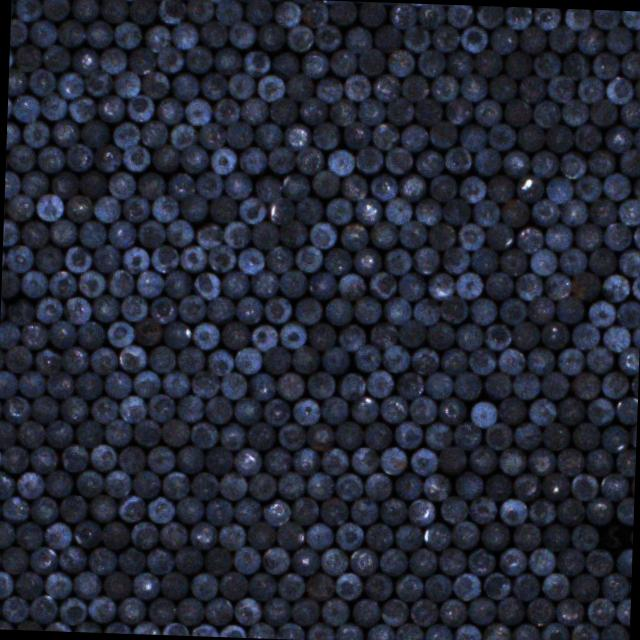tool: (105, 218, 134, 248), (33, 244, 62, 274), (76, 318, 105, 348), (29, 593, 58, 622), (29, 496, 58, 525), (59, 343, 88, 372), (526, 596, 554, 626), (4, 345, 34, 373), (364, 470, 392, 500), (394, 572, 422, 602), (178, 144, 206, 174), (20, 218, 48, 248), (100, 518, 128, 548), (29, 394, 57, 424), (450, 520, 478, 549), (510, 319, 538, 348), (146, 392, 174, 421), (569, 370, 598, 398), (572, 271, 600, 300), (544, 124, 572, 153), (604, 75, 632, 104), (262, 343, 290, 372), (87, 546, 116, 574), (72, 370, 101, 398), (480, 520, 508, 549), (270, 96, 298, 125), (414, 96, 442, 125), (119, 246, 148, 274), (204, 546, 232, 575), (72, 570, 100, 599), (524, 346, 552, 375), (5, 245, 33, 274), (88, 396, 117, 424), (100, 570, 129, 598), (75, 268, 104, 296), (75, 469, 104, 497), (442, 196, 472, 223), (136, 218, 163, 248), (584, 546, 612, 574), (176, 444, 204, 472), (452, 370, 480, 398), (416, 48, 444, 76), (290, 344, 318, 372), (351, 294, 379, 322), (408, 394, 436, 422), (467, 296, 495, 324), (570, 472, 598, 500), (278, 270, 306, 298), (174, 546, 202, 574), (406, 546, 434, 574), (474, 48, 502, 76), (504, 98, 532, 126), (526, 295, 554, 323), (34, 192, 62, 220), (397, 218, 425, 246), (207, 244, 235, 272), (2, 396, 30, 424), (158, 520, 186, 548), (452, 572, 480, 600), (468, 446, 496, 474), (308, 270, 336, 298), (218, 471, 246, 499), (296, 145, 324, 173), (260, 546, 288, 574), (406, 497, 434, 525), (538, 320, 566, 348), (487, 74, 515, 102), (189, 471, 217, 499), (502, 199, 530, 227), (586, 598, 614, 626), (377, 496, 405, 524), (135, 270, 163, 298), (188, 520, 216, 548), (428, 118, 456, 146), (14, 522, 42, 550), (554, 448, 582, 476), (248, 572, 276, 600), (602, 172, 630, 200), (377, 546, 405, 574), (220, 320, 248, 348), (29, 544, 57, 572), (274, 520, 302, 548), (188, 570, 216, 598), (227, 21, 255, 49), (160, 470, 188, 498), (146, 444, 174, 472), (441, 245, 469, 273), (152, 193, 180, 221), (470, 495, 498, 523), (364, 571, 392, 599), (394, 522, 422, 550), (292, 244, 320, 272), (304, 422, 332, 450), (1, 444, 29, 472), (13, 94, 41, 122), (574, 174, 602, 202), (125, 94, 153, 122), (348, 548, 376, 576), (236, 247, 264, 275), (118, 344, 146, 372), (334, 522, 362, 550), (278, 218, 306, 246), (328, 148, 356, 176), (466, 597, 494, 625), (517, 122, 545, 150), (256, 72, 284, 100), (174, 596, 202, 624), (496, 596, 524, 624), (132, 418, 160, 446), (43, 418, 71, 446), (160, 370, 188, 398), (590, 99, 618, 127), (364, 522, 392, 550), (198, 20, 226, 48), (488, 121, 516, 149), (392, 420, 420, 448), (422, 572, 450, 600), (554, 396, 582, 424), (133, 316, 161, 344), (48, 218, 76, 246), (424, 421, 452, 449), (304, 570, 332, 598), (160, 417, 188, 445), (556, 598, 584, 626), (436, 545, 464, 573), (514, 174, 542, 202), (558, 247, 586, 275), (541, 421, 569, 449), (130, 370, 158, 398), (148, 344, 176, 372), (58, 394, 86, 422), (320, 346, 348, 374), (149, 296, 177, 324), (348, 496, 376, 524), (409, 598, 437, 626), (212, 46, 240, 74), (58, 493, 86, 521), (588, 246, 616, 274), (592, 50, 620, 78), (308, 220, 336, 248), (16, 420, 44, 448), (174, 494, 202, 522), (558, 152, 586, 180), (122, 194, 150, 222), (274, 372, 302, 400), (570, 572, 598, 600), (190, 421, 218, 449), (276, 570, 304, 598), (28, 18, 56, 46), (382, 295, 410, 323), (584, 496, 612, 524), (395, 272, 423, 300), (318, 496, 346, 524), (412, 296, 440, 324), (282, 123, 310, 151), (103, 468, 131, 496), (262, 498, 290, 526), (542, 572, 570, 600), (18, 370, 46, 398), (372, 24, 400, 52), (290, 596, 318, 624), (446, 50, 474, 78), (92, 194, 120, 222), (440, 494, 468, 522), (62, 296, 90, 324), (20, 168, 48, 196), (421, 522, 449, 550), (74, 418, 102, 446), (378, 395, 406, 423), (586, 396, 614, 424), (572, 222, 600, 250), (5, 144, 33, 172), (343, 26, 371, 54), (601, 572, 629, 600), (46, 369, 74, 397), (64, 142, 92, 170), (482, 570, 510, 598), (262, 446, 290, 474), (190, 368, 218, 396), (291, 396, 319, 424), (102, 417, 130, 445), (408, 447, 436, 475), (116, 545, 144, 573), (117, 444, 145, 472), (530, 196, 558, 224), (28, 444, 56, 472), (59, 444, 87, 472), (88, 493, 116, 521), (249, 270, 277, 298), (105, 268, 133, 296), (232, 446, 260, 474), (149, 244, 177, 272), (252, 172, 280, 200), (414, 149, 442, 177), (104, 320, 132, 348), (526, 396, 554, 424), (472, 98, 500, 126), (348, 396, 376, 424), (48, 270, 76, 298), (600, 423, 628, 451), (62, 244, 90, 272), (170, 71, 198, 99), (606, 123, 634, 151), (59, 595, 87, 623), (206, 497, 234, 525), (116, 594, 144, 622), (192, 270, 220, 298), (350, 598, 378, 626), (4, 296, 32, 324), (92, 294, 120, 322), (148, 596, 176, 624), (204, 446, 232, 474), (48, 318, 76, 346), (118, 394, 146, 422), (277, 320, 305, 348), (79, 168, 107, 196), (89, 345, 117, 373), (252, 219, 279, 248), (574, 123, 601, 152), (211, 95, 238, 124), (385, 95, 412, 124), (94, 142, 121, 171), (369, 322, 398, 349), (76, 218, 105, 245), (338, 323, 365, 352), (440, 295, 467, 323), (247, 520, 274, 548), (264, 245, 292, 272), (489, 25, 516, 53), (226, 70, 253, 98), (205, 596, 232, 624), (306, 371, 334, 398), (240, 95, 267, 123), (84, 20, 111, 48), (504, 51, 532, 78), (498, 448, 525, 476), (262, 396, 289, 424), (21, 321, 48, 349), (88, 443, 115, 471), (366, 368, 393, 396), (112, 20, 139, 48), (334, 570, 361, 598), (334, 421, 362, 448), (540, 371, 568, 398), (220, 372, 247, 400), (546, 24, 574, 51), (514, 272, 541, 300), (438, 598, 465, 626), (243, 48, 270, 76), (344, 120, 371, 148), (291, 448, 318, 476), (570, 322, 598, 349), (555, 498, 582, 526), (305, 470, 332, 498), (259, 22, 286, 50), (285, 22, 312, 50), (170, 21, 198, 48), (584, 449, 611, 477), (255, 121, 282, 149), (543, 221, 570, 249), (503, 150, 530, 178), (384, 198, 412, 225), (357, 46, 384, 74), (349, 446, 376, 474), (247, 472, 274, 500), (432, 24, 459, 52), (29, 67, 56, 95), (248, 372, 276, 399), (367, 271, 394, 299), (235, 295, 262, 323), (208, 194, 235, 222), (410, 346, 437, 374), (182, 97, 209, 125), (459, 72, 486, 100), (384, 146, 412, 173), (291, 546, 318, 574), (64, 194, 91, 222), (454, 271, 481, 299), (600, 370, 627, 398), (224, 169, 251, 197), (444, 144, 471, 172), (97, 93, 124, 121), (291, 495, 318, 523), (197, 122, 224, 150), (57, 18, 84, 46), (132, 572, 159, 600), (312, 168, 339, 196), (342, 73, 370, 100), (130, 471, 158, 498), (320, 447, 347, 475), (248, 422, 275, 450), (183, 45, 210, 73), (51, 120, 78, 148), (587, 148, 614, 176), (204, 394, 231, 422), (401, 123, 428, 151), (218, 571, 245, 599), (496, 347, 523, 375), (14, 44, 41, 72), (555, 296, 582, 324), (402, 72, 429, 100), (356, 96, 383, 124), (321, 596, 348, 624), (403, 24, 430, 52), (321, 394, 348, 422), (140, 120, 167, 148), (299, 96, 326, 124), (199, 72, 226, 100), (445, 97, 472, 125), (544, 175, 572, 202), (320, 546, 347, 574), (430, 172, 457, 200), (467, 347, 494, 375), (426, 371, 454, 398), (572, 421, 600, 448), (603, 274, 630, 302), (337, 272, 364, 300), (354, 197, 381, 225), (386, 49, 413, 77), (353, 344, 380, 372), (604, 26, 631, 54), (195, 170, 222, 198), (41, 44, 68, 72), (233, 346, 260, 374), (529, 148, 556, 176), (512, 473, 539, 501), (485, 221, 513, 248), (205, 296, 232, 324), (370, 218, 397, 246), (604, 223, 631, 251), (220, 270, 247, 298), (238, 146, 265, 174), (588, 197, 616, 224), (456, 470, 483, 498), (286, 72, 313, 100), (177, 294, 204, 322), (165, 219, 192, 247), (498, 396, 525, 424), (160, 570, 187, 598), (334, 472, 361, 500), (326, 198, 354, 225), (15, 572, 42, 600), (238, 197, 266, 224), (363, 422, 390, 450), (428, 221, 456, 248), (453, 322, 481, 349), (156, 46, 184, 73), (467, 547, 494, 575), (92, 245, 120, 272), (218, 522, 245, 550), (542, 472, 570, 499), (399, 172, 426, 200), (329, 47, 356, 75), (438, 395, 465, 423), (178, 243, 205, 271), (280, 170, 307, 198), (313, 23, 340, 51), (142, 24, 169, 52), (233, 596, 260, 624), (398, 320, 425, 348), (40, 90, 67, 118), (354, 145, 381, 173), (438, 446, 465, 474), (472, 146, 499, 174), (576, 27, 604, 54), (512, 420, 539, 448), (44, 469, 72, 496), (422, 471, 449, 499), (439, 347, 466, 375), (381, 598, 408, 626), (178, 193, 205, 221), (599, 472, 627, 499), (324, 247, 352, 274), (16, 471, 44, 498), (452, 422, 480, 449), (233, 396, 260, 424), (1, 546, 28, 574), (394, 471, 421, 499), (106, 170, 133, 198), (397, 370, 424, 398), (128, 47, 155, 75), (561, 50, 588, 78), (136, 170, 163, 198), (500, 247, 527, 275), (51, 169, 78, 197), (175, 394, 202, 422), (458, 122, 485, 150), (372, 72, 399, 100), (470, 401, 498, 428), (57, 545, 84, 573), (484, 474, 511, 502), (340, 221, 367, 249), (482, 322, 510, 349), (195, 220, 222, 248), (4, 193, 32, 220), (369, 172, 396, 200), (20, 270, 47, 298), (175, 346, 202, 374), (542, 523, 569, 551), (102, 371, 130, 398), (70, 48, 97, 76), (44, 520, 71, 548), (81, 120, 108, 148), (23, 120, 50, 148), (305, 520, 332, 548), (118, 493, 146, 520), (163, 268, 190, 296), (148, 494, 175, 522), (205, 348, 232, 376), (337, 372, 364, 400), (34, 296, 61, 324), (249, 323, 276, 351), (33, 346, 60, 374), (262, 596, 288, 625), (352, 246, 378, 275), (518, 75, 544, 104), (458, 173, 484, 202), (469, 247, 496, 274), (483, 422, 510, 449), (560, 98, 587, 125), (166, 172, 193, 199), (382, 247, 409, 274), (571, 524, 598, 551), (471, 198, 498, 225), (459, 24, 486, 51), (87, 594, 114, 621), (141, 70, 168, 97), (276, 422, 303, 449), (294, 197, 321, 224), (414, 197, 441, 224), (425, 321, 452, 348), (163, 321, 190, 348), (308, 321, 335, 348), (484, 370, 511, 397), (83, 68, 110, 95), (170, 123, 197, 150), (271, 51, 298, 78), (42, 572, 70, 598), (532, 98, 558, 126), (528, 547, 554, 575), (520, 26, 546, 54), (532, 49, 558, 77), (558, 546, 584, 574), (378, 445, 404, 473), (512, 522, 538, 550), (232, 498, 260, 524), (122, 144, 150, 170), (192, 320, 218, 348), (74, 519, 100, 547), (548, 74, 574, 102), (120, 294, 148, 320), (588, 300, 614, 328), (412, 246, 438, 274), (432, 73, 458, 101), (146, 546, 172, 574), (486, 272, 512, 300), (528, 246, 554, 274), (264, 294, 290, 322), (222, 219, 248, 247), (456, 222, 484, 248), (326, 298, 352, 326), (130, 520, 156, 548), (500, 546, 526, 574), (232, 545, 258, 573), (528, 448, 554, 476), (486, 174, 512, 202), (428, 272, 454, 300), (382, 344, 408, 372), (372, 122, 398, 150), (59, 71, 85, 99), (544, 272, 570, 300), (112, 70, 138, 98), (586, 346, 612, 374), (312, 122, 338, 150), (560, 197, 586, 225), (36, 145, 62, 173), (294, 296, 322, 322), (512, 572, 538, 600), (556, 346, 582, 374), (0, 495, 26, 523), (112, 121, 138, 149), (220, 422, 246, 450), (152, 142, 178, 170), (302, 50, 328, 78), (516, 226, 542, 254), (331, 96, 356, 125), (512, 372, 538, 399), (210, 146, 236, 173), (268, 146, 295, 172), (500, 498, 527, 524), (276, 472, 302, 499), (340, 172, 367, 198), (577, 76, 604, 102), (268, 197, 294, 224), (68, 95, 94, 122), (528, 498, 555, 524), (500, 296, 527, 322), (604, 324, 630, 351), (0, 594, 26, 621), (315, 78, 342, 104), (615, 300, 640, 328), (328, 0, 356, 25), (416, 3, 444, 28), (274, 0, 300, 26), (225, 122, 251, 148), (100, 48, 126, 74), (157, 96, 183, 122), (299, 0, 326, 25), (388, 2, 415, 27), (357, 1, 384, 25), (617, 198, 640, 226), (214, 0, 242, 23), (129, 0, 155, 24), (159, 0, 186, 23), (246, 0, 273, 23), (100, 0, 127, 23), (504, 6, 532, 28), (616, 396, 638, 424), (476, 5, 504, 27), (618, 247, 640, 275), (531, 7, 559, 29), (563, 8, 590, 30), (70, 0, 97, 22), (12, 0, 39, 22), (618, 348, 639, 376), (184, 0, 212, 21), (0, 320, 20, 349), (446, 4, 472, 26), (40, 0, 67, 21), (620, 146, 640, 174), (615, 449, 635, 477), (620, 99, 640, 127), (304, 620, 332, 640), (620, 50, 640, 77), (393, 621, 421, 640), (334, 621, 362, 640), (539, 622, 567, 640), (0, 269, 18, 297), (592, 10, 620, 28), (509, 622, 537, 640), (482, 622, 510, 640), (8, 67, 26, 95), (616, 496, 634, 524), (276, 622, 304, 640), (570, 622, 597, 640), (601, 623, 629, 640), (424, 623, 452, 640), (616, 545, 632, 574), (366, 623, 393, 640), (451, 623, 478, 640), (10, 18, 26, 46), (0, 369, 16, 397), (0, 418, 15, 447), (248, 622, 275, 638), (2, 218, 18, 245), (4, 169, 19, 197), (161, 620, 187, 636), (615, 597, 630, 624), (0, 519, 14, 547), (102, 620, 129, 634), (133, 620, 160, 634), (0, 469, 13, 498), (7, 120, 20, 148), (218, 624, 244, 638), (190, 622, 216, 636), (0, 570, 12, 599), (74, 620, 102, 632), (622, 10, 640, 28), (15, 618, 42, 630), (44, 620, 71, 632), (631, 274, 640, 301), (632, 221, 640, 249), (628, 421, 636, 449), (631, 324, 640, 348), (630, 371, 638, 397), (633, 124, 640, 152), (634, 173, 640, 202), (634, 25, 640, 53), (634, 75, 640, 103), (7, 92, 13, 120), (0, 295, 5, 324), (0, 618, 13, 629), (0, 344, 4, 372), (0, 396, 2, 424)
tool_b: (596, 522, 630, 553)
